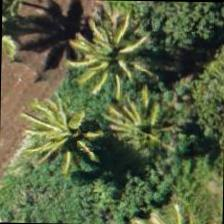Kelapa_Sawit: (104, 79, 196, 172), (46, 0, 139, 91), (51, 90, 142, 182)
